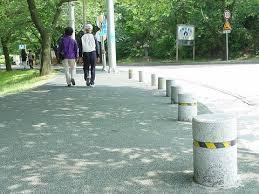Animal: (181, 113, 230, 194), (177, 95, 198, 123), (162, 75, 173, 100), (151, 75, 160, 90)
